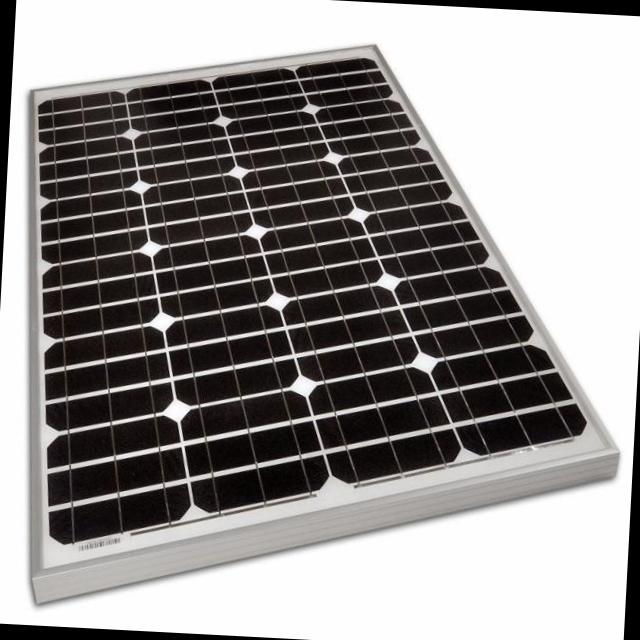no faulty: (40, 59, 576, 536)
